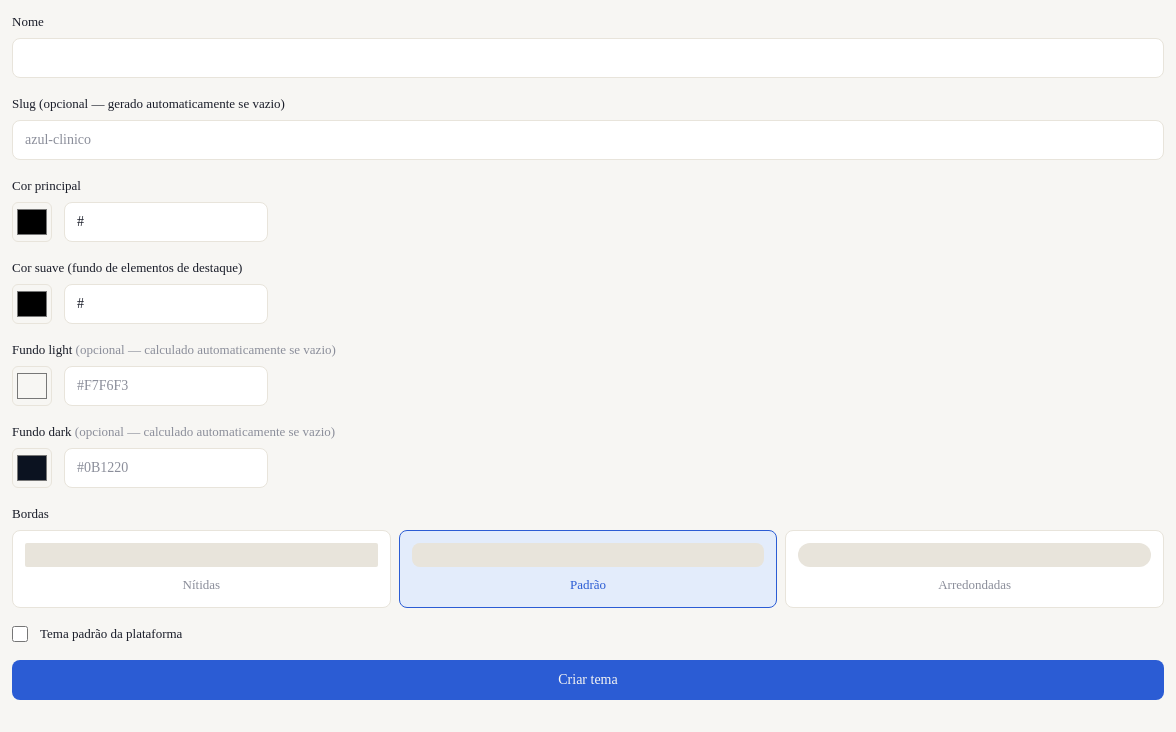
Test case: ThemeForm (integration) — create mode › changing accentColor picker updates accentColor text input
The image size is (1176, 732).
Type "#ff0000" into the colour field with id "accentColor-picker". click: (32, 222)
box: [12,202,52,242]
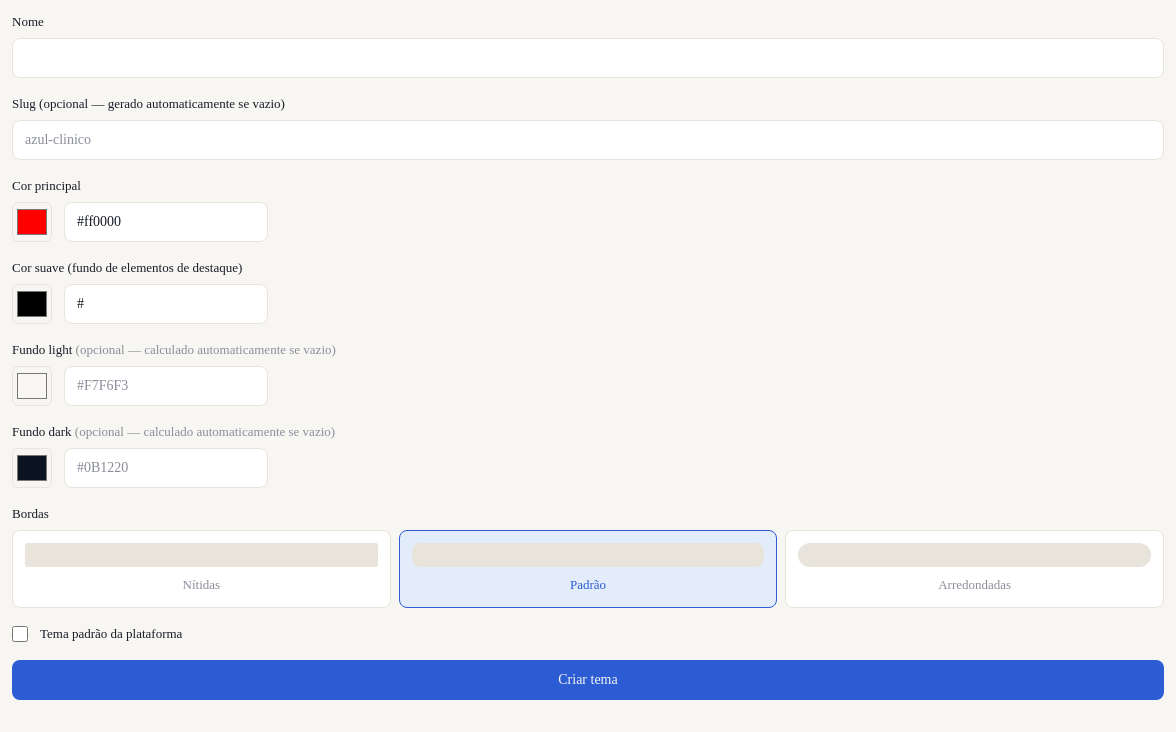
Expected: the field with test id "theme-form-accent-color" holds "#ff0000", [64,202,268,242]
